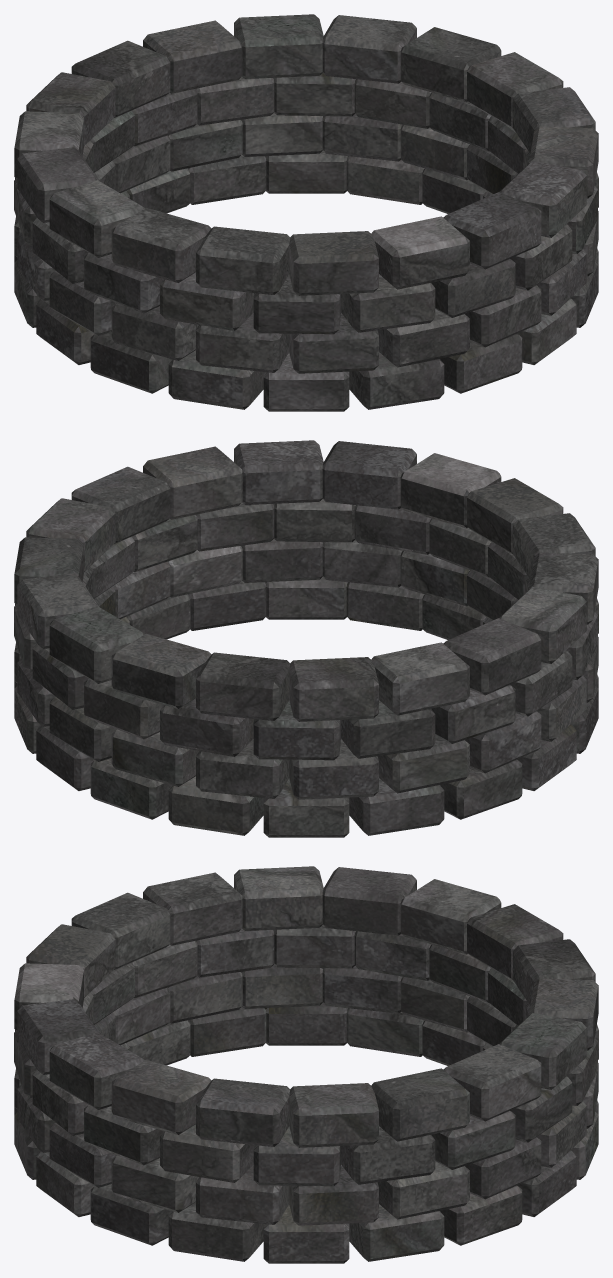
Rendered from pit.obj.
3 renders of one model, top to bottom at view 1: azimuth 30°, elevation 25°; view 2: azimuth 150°, elevation 25°; view 3: azimuth 270°, elevation 25°, orthographic.
Visible parts, largest first — view 1: firepit; view 2: firepit; view 3: firepit.
Boxes of the visible parts, <box> form: firepit: <box>14,14,598,411</box>; firepit: <box>14,440,598,837</box>; firepit: <box>14,866,598,1263</box>.
Bounding box in the file's own units: 1.36 × 0.4 × 1.36.
Materials: 1 (1 with a texture image).
